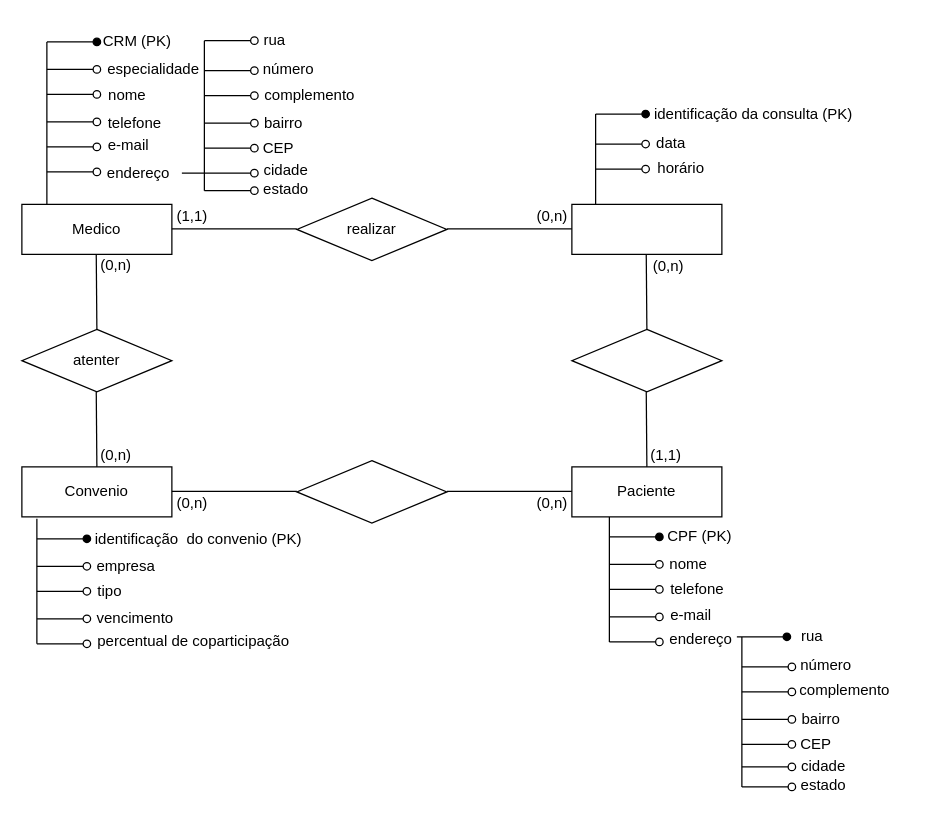
Some shapes in this 929 by 825 pixel diagram are drawn without their labels. The shapes that lost their labels are listed below. From the top down, each one's centre as x and y in pixels, then its label:
the point at 646,228: Consulta
the point at 646,360: marcar
the point at 371,491: possui
